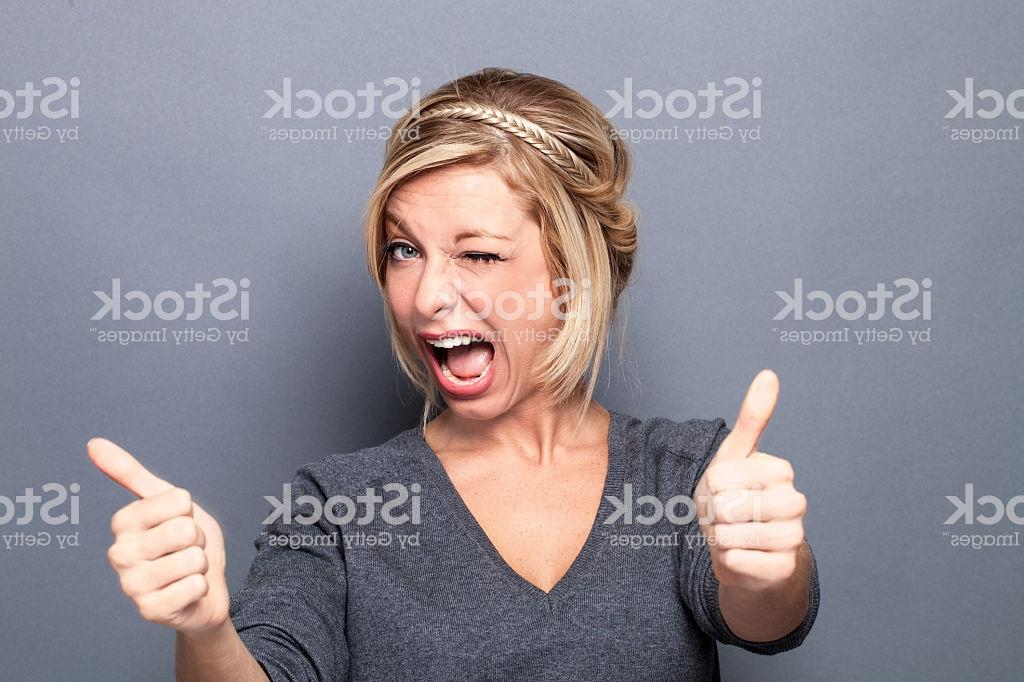thumbsup: (86, 436, 232, 631), (694, 370, 811, 592)
